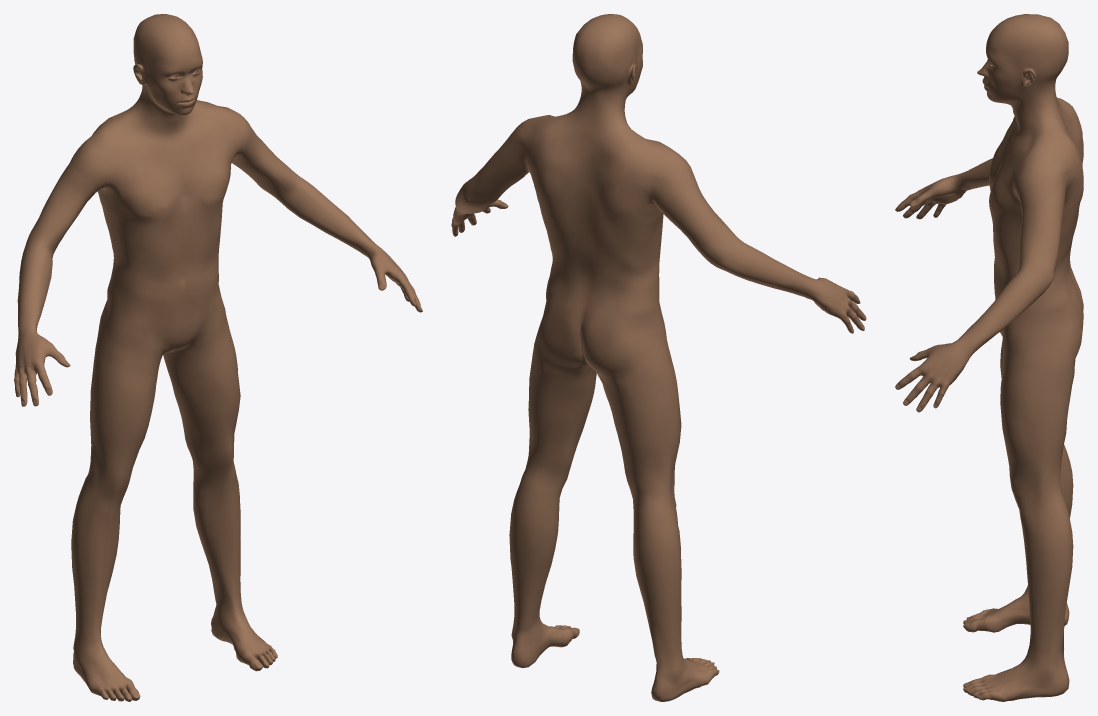
3 renders of one model, left to right at view 1: azimuth 30°, elevation 25°; view 2: azimuth 150°, elevation 25°; view 3: azimuth 270°, elevation 25°, orthographic.
Parts seen in each view (by area): view 1: base.obj; view 2: base.obj; view 3: base.obj.
Part boxes in pixels (x1,y1,x2,y2): base.obj: (14, 14, 422, 701); base.obj: (451, 14, 866, 701); base.obj: (895, 14, 1083, 701).
Bounding box in the file's own units: 11.65 × 18 × 4.78.
